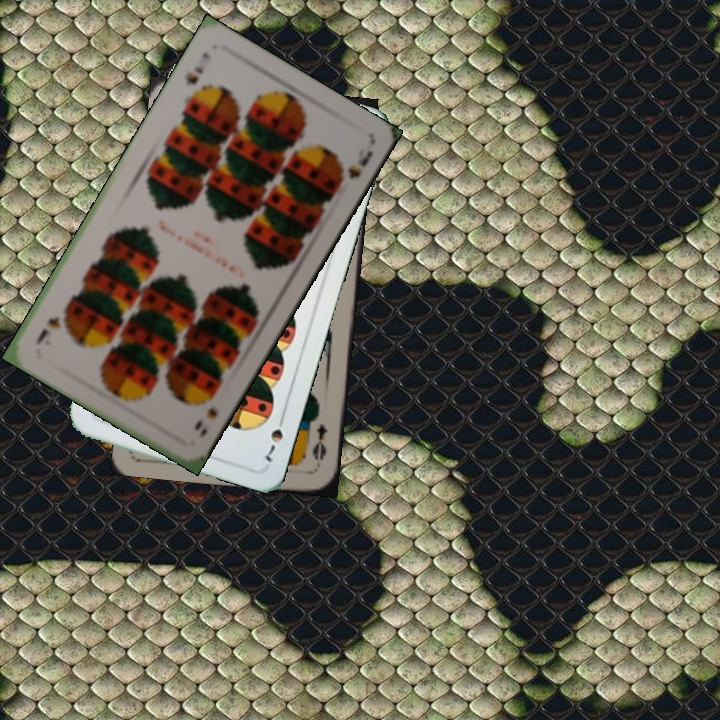EO: (308, 419, 330, 463)
S7: (261, 409, 288, 465)
S9: (181, 48, 214, 89), (190, 401, 221, 441)
